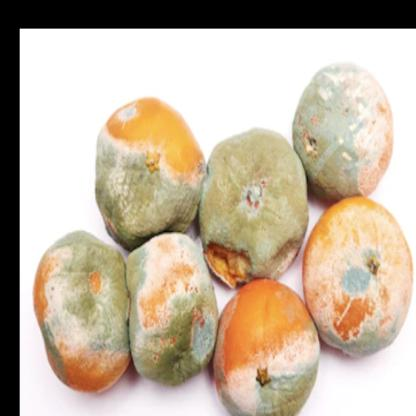rotten: (35, 64, 416, 416)
